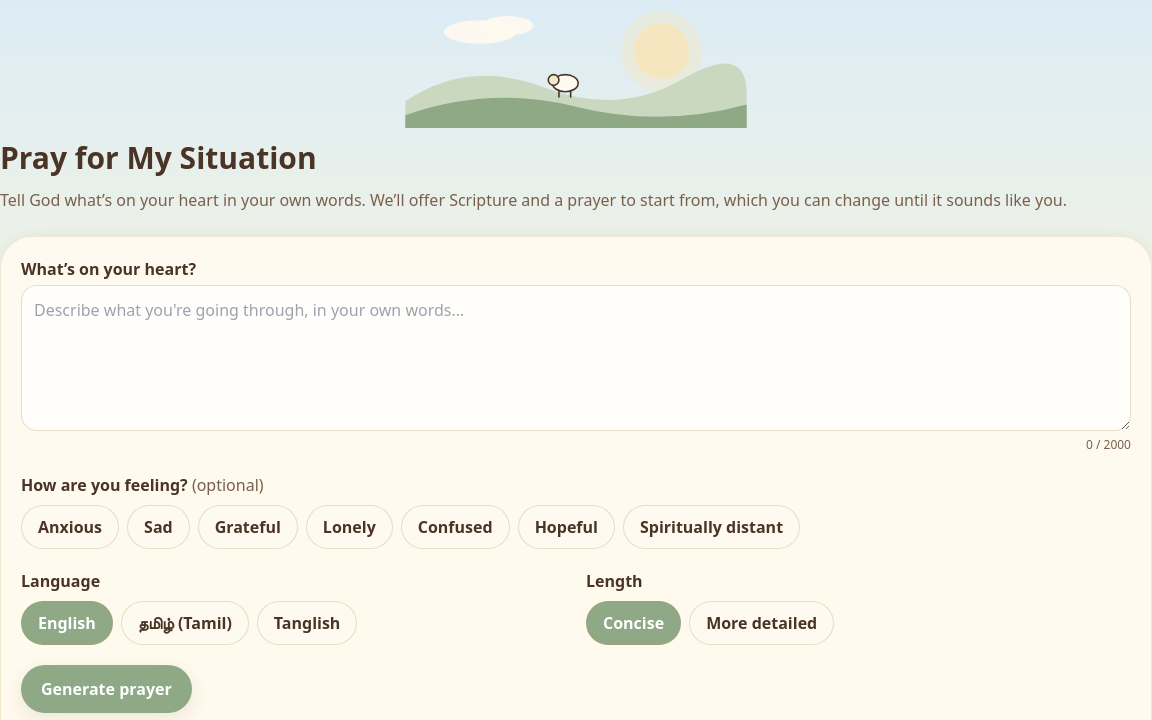
saving a prayer to My Walk with God › saving again updates the same entry (button becomes 'Update journal entry') and never duplicates
Type "I am anxious about my exams and cannot sleep." into the text box labelled "What’s on your heart? 0 / 2000" at (576, 358), box [21,285,1131,431]
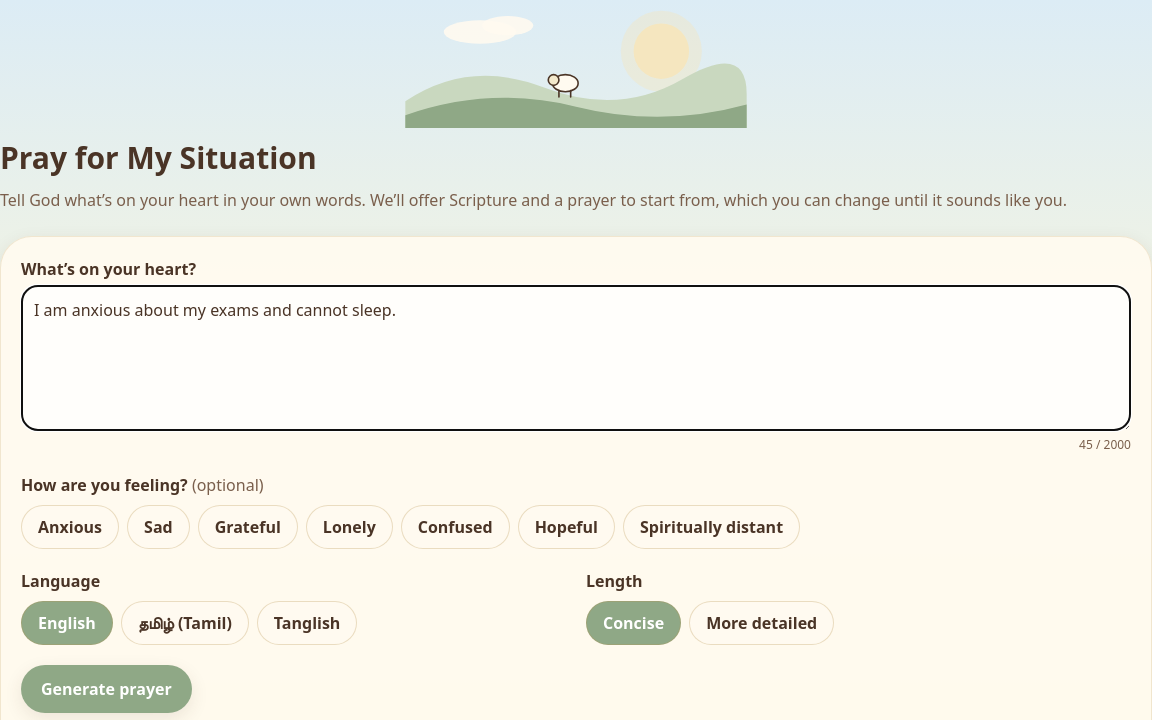
Click the button "Generate prayer" at (106, 689), box [21,665,192,713]
(page scrolled)
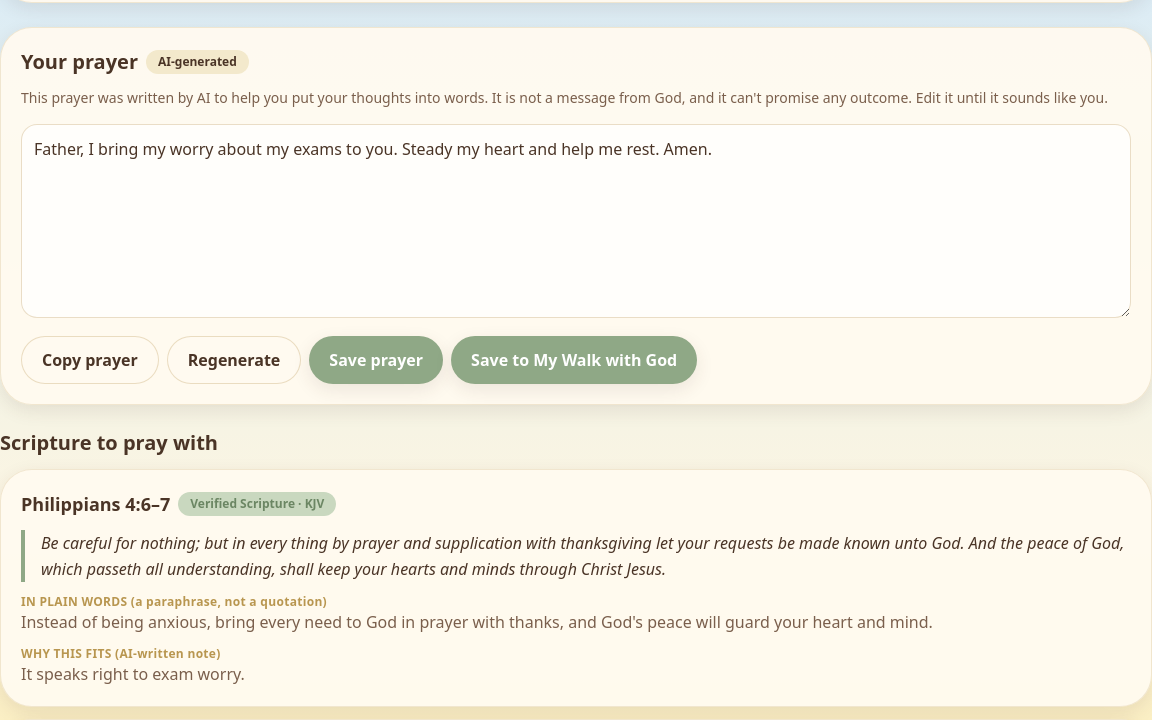
Click the button "Save to My Walk with God" at (574, 360), box [451,336,697,384]
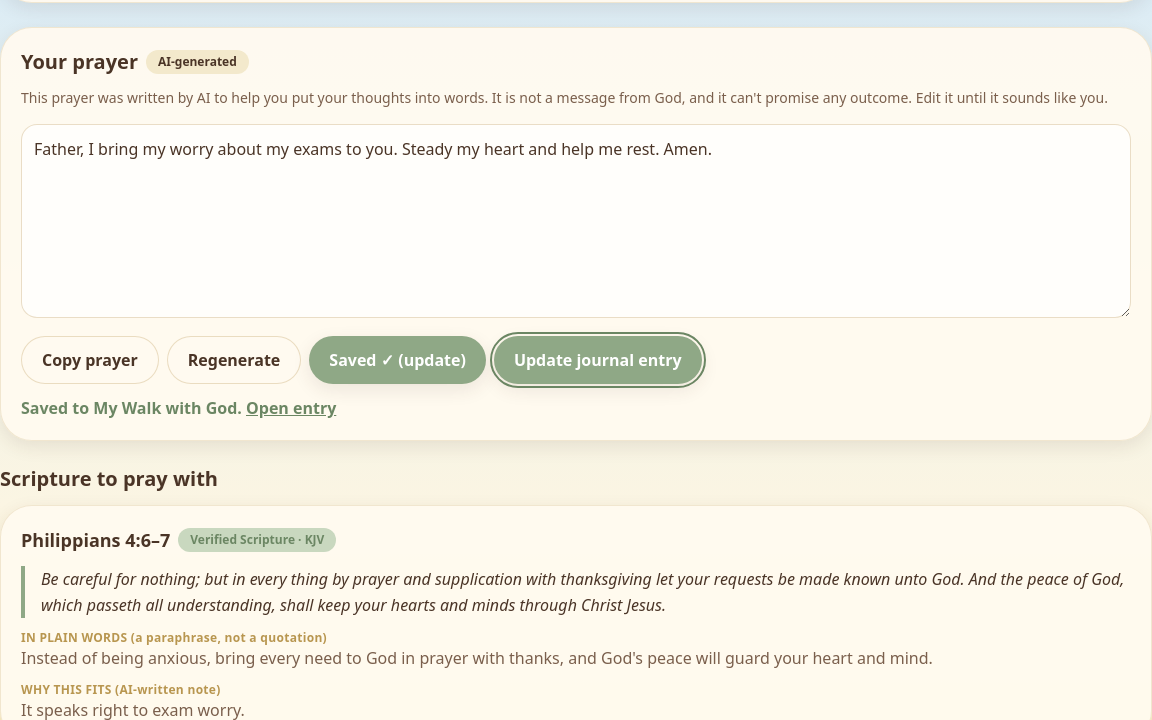
Type " Edited later." into the text box named "your prayer" at (576, 221), box [21,124,1131,318]
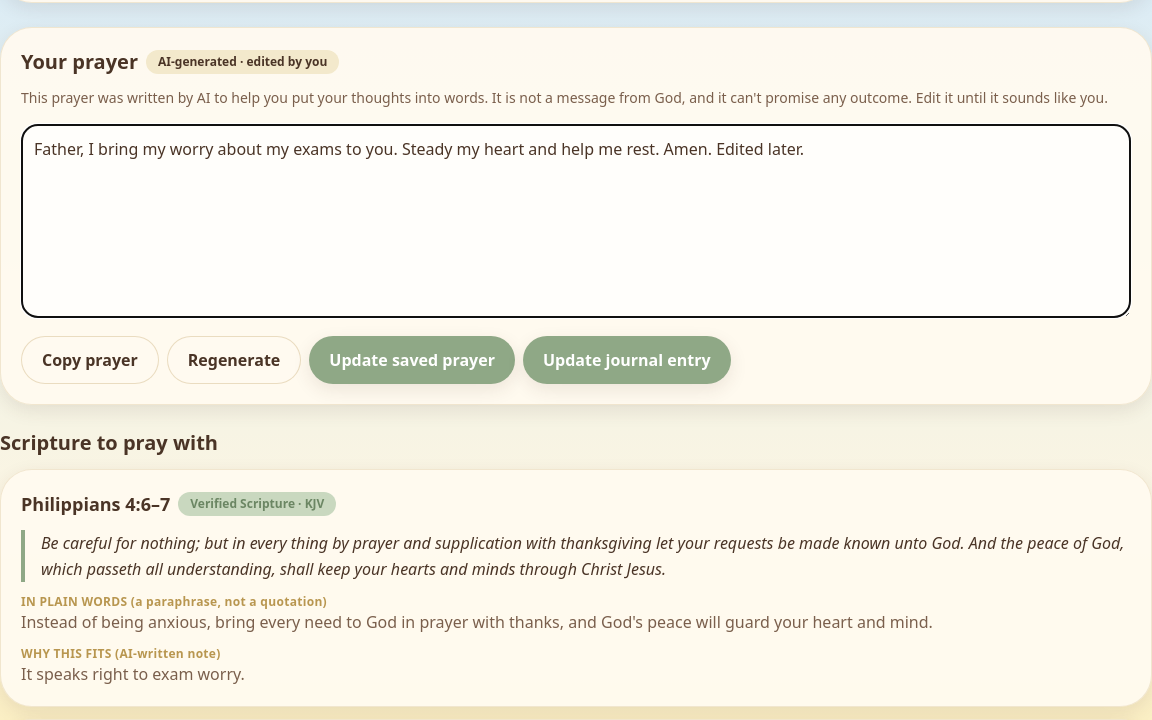
Click the button "Update journal entry" at (627, 360), box [523,336,730,384]
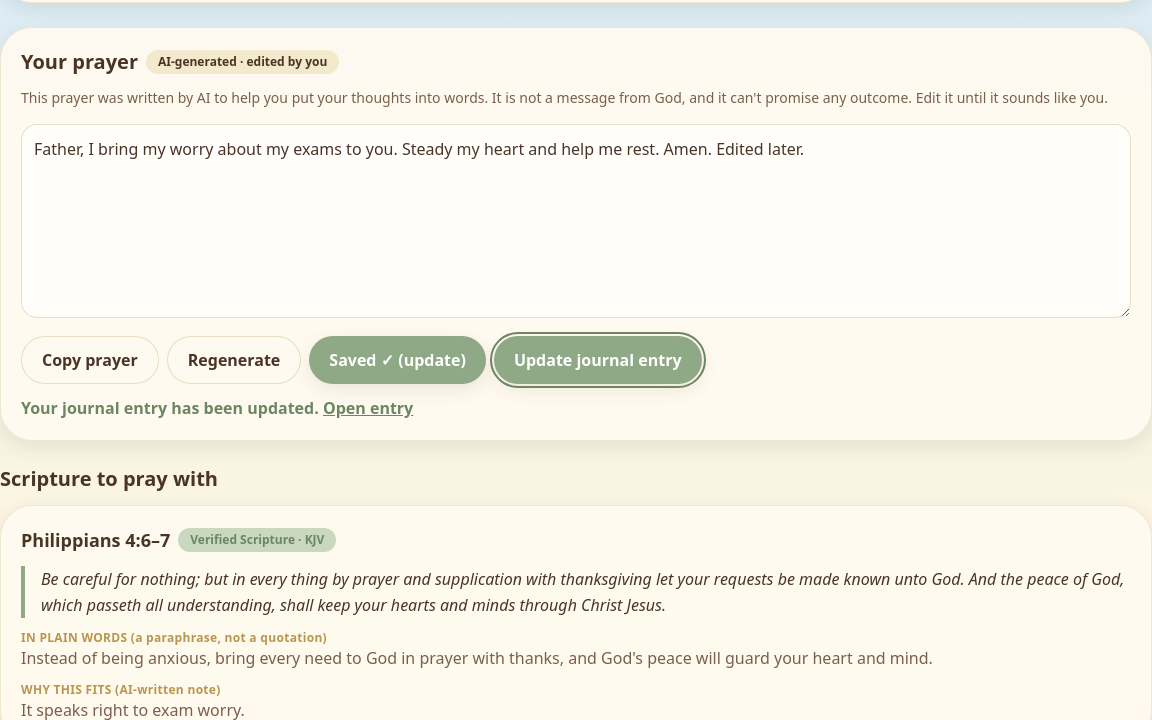
Expected: the text "Your journal entry has been updated. Open entry" is shown, [21,397,413,419]
